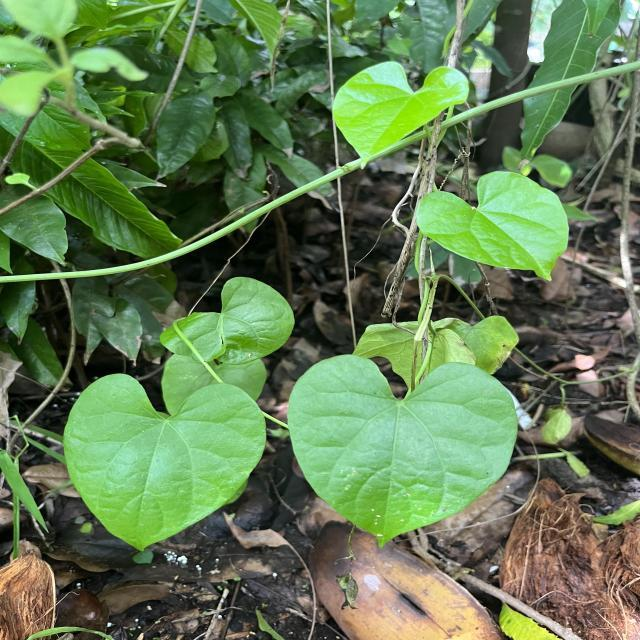Tinospora cordifolia: (284, 350, 520, 552), (61, 371, 270, 554), (414, 169, 570, 283), (330, 61, 470, 170)
